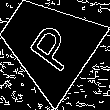P_NW: (17, 13, 77, 73)
